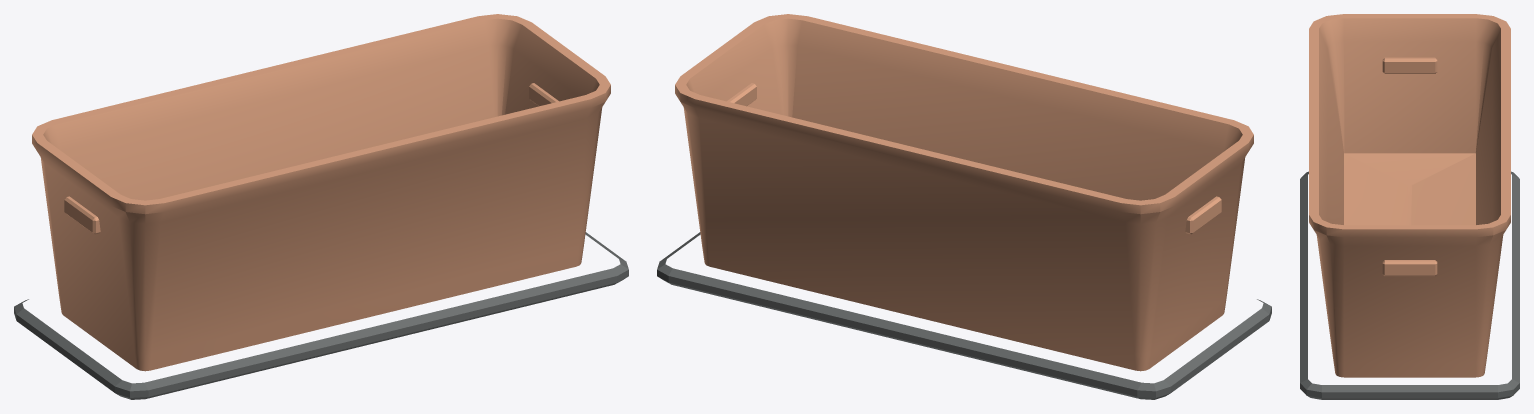
The model's file is garden-centre-and-florist-planter-trough-b59d219a__17748.glb.
The picture shows the model from 3 angles, left to right: view 1: azimuth 30°, elevation 25°; view 2: azimuth 150°, elevation 25°; view 3: azimuth 270°, elevation 25°; orthographic projection. The views are drawn at different scales.
Visible parts, largest first — view 1: planter-trough; view 2: planter-trough; view 3: planter-trough.
Part boxes in pixels (<box>): planter-trough: <box>14,14,628,399</box>; planter-trough: <box>657,14,1271,399</box>; planter-trough: <box>1300,14,1519,399</box>.
Size of the model in its own units: 0.96 by 0.34 by 0.4.
